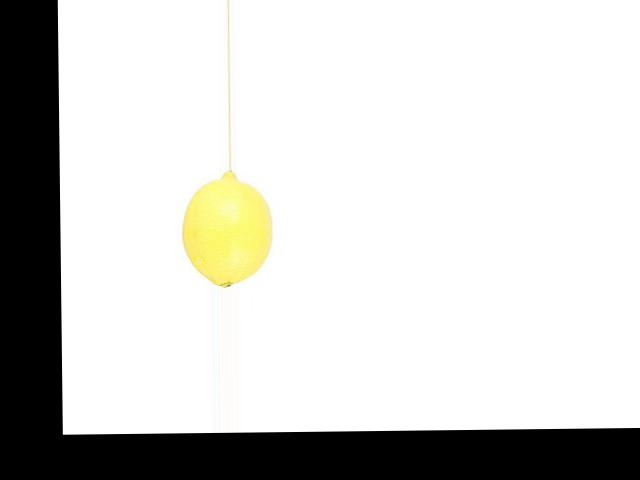lemon: (182, 169, 274, 287)
